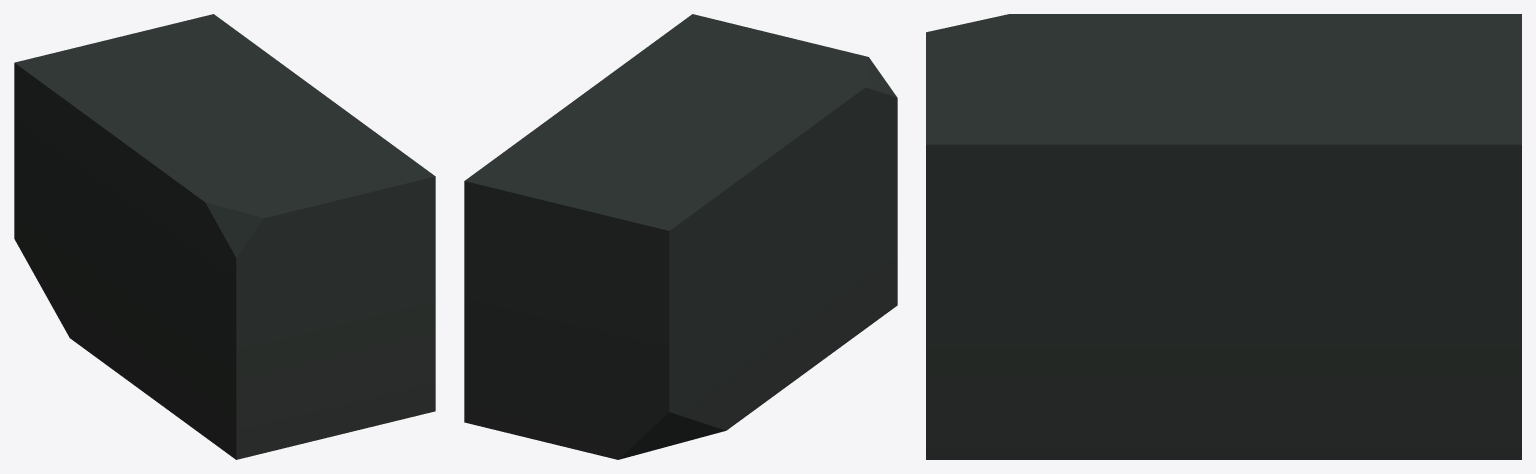
File: SM_BrickRubble_01.fbx
3 renders of one model, left to right at view 1: azimuth 30°, elevation 25°; view 2: azimuth 150°, elevation 25°; view 3: azimuth 270°, elevation 25°, orthographic. The views are drawn at different scales.
Visible parts, largest first — view 1: SM_BrickRubble_01; view 2: SM_BrickRubble_01; view 3: SM_BrickRubble_01.
Part boxes in pixels (x1,y1,x2,y2): SM_BrickRubble_01: [14, 14, 435, 459]; SM_BrickRubble_01: [464, 14, 897, 459]; SM_BrickRubble_01: [926, 14, 1521, 459].
Size of the model in its own units: 32.09 by 36.11 by 61.85.
Materials: 1 (1 with a texture image).
